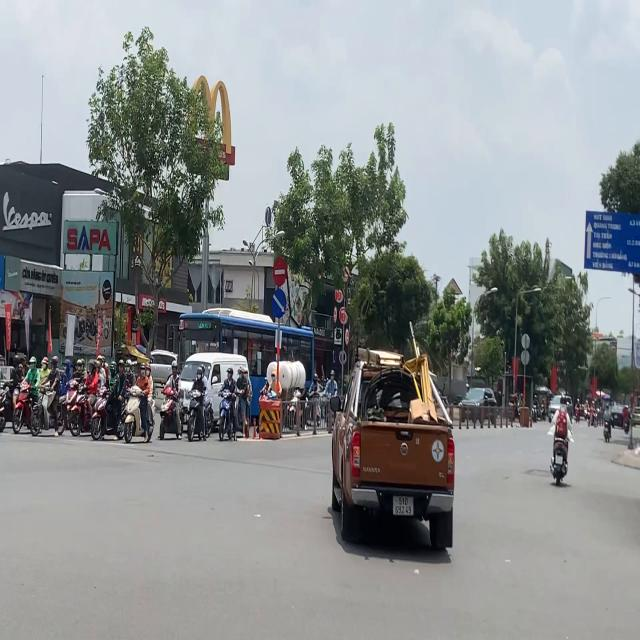Cam nguoc chieu: (271, 255, 287, 288)
Hieu lenh: (270, 287, 288, 321)
